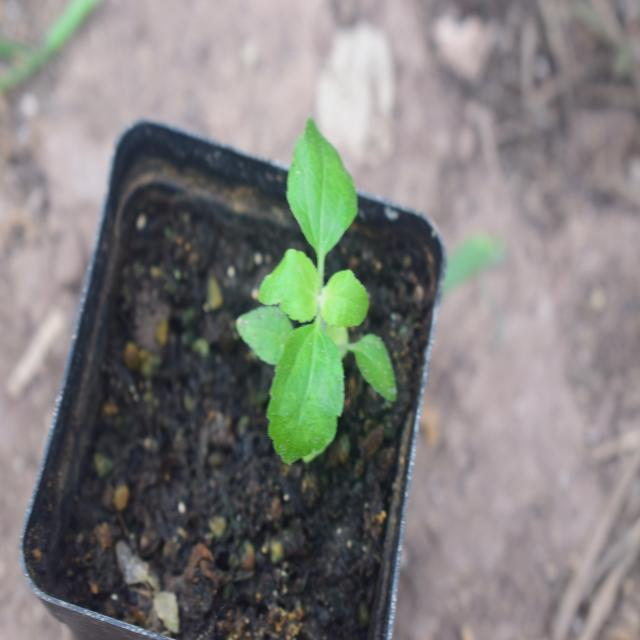billygoat_weed: (242, 104, 380, 480)
